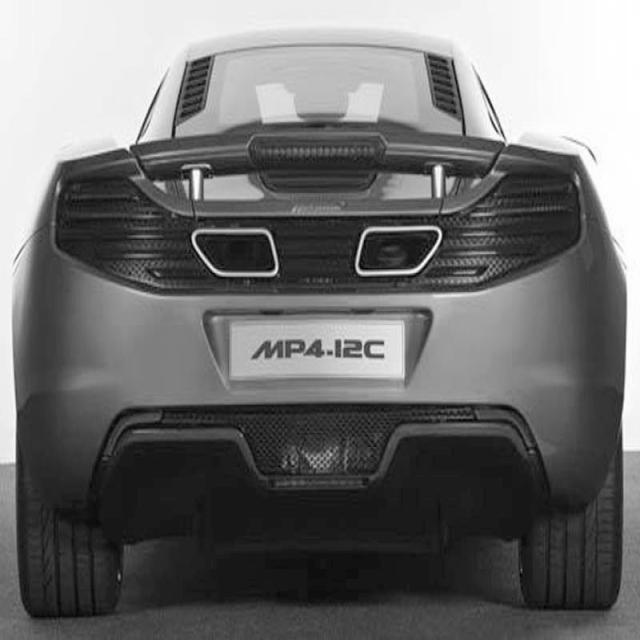car: (10, 24, 628, 620)
plat_license: (229, 322, 404, 382)
